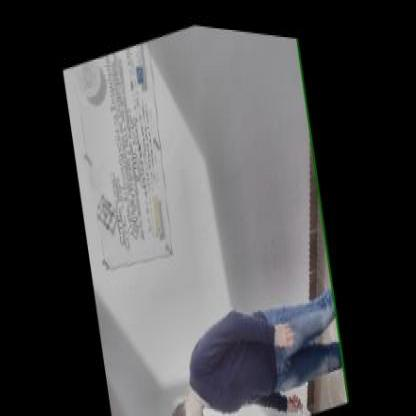knife: (289, 369, 322, 410)
